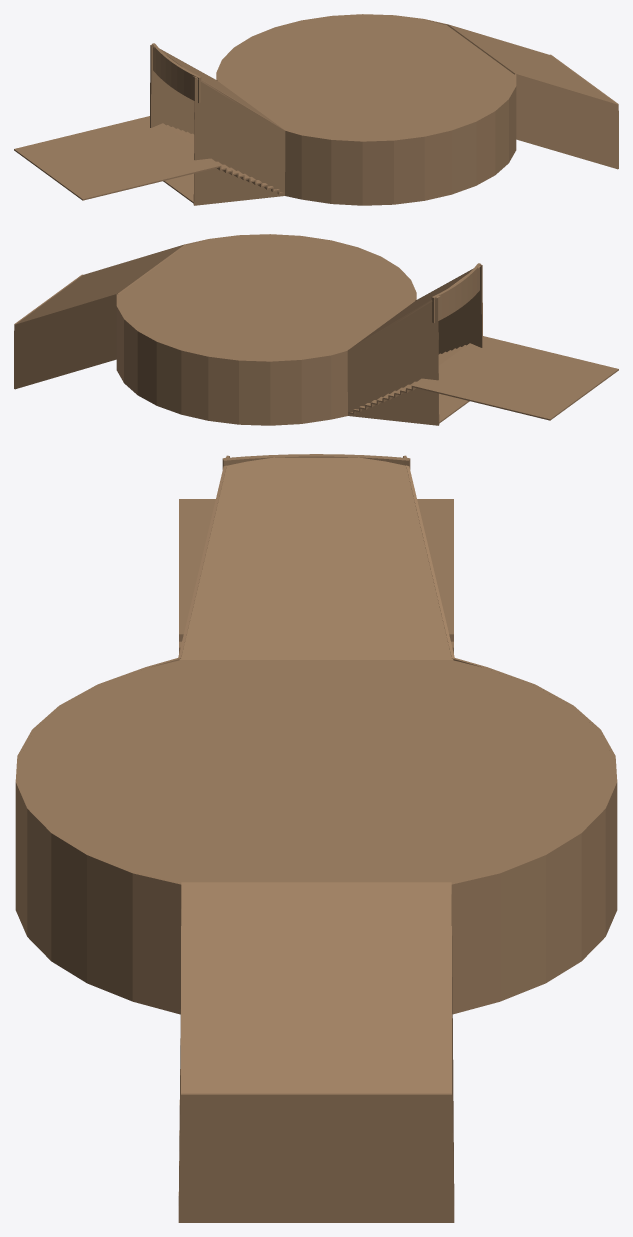
Rendered from CollisionLowerLVLHallFix.fbx.
The picture shows the model from 3 angles, top to bottom: view 1: azimuth 30°, elevation 25°; view 2: azimuth 150°, elevation 25°; view 3: azimuth 270°, elevation 25°; orthographic projection. The views are drawn at different scales.
Parts seen in each view (by area): view 1: CollisionLowerLVLHallFix; view 2: CollisionLowerLVLHallFix; view 3: CollisionLowerLVLHallFix.
Boxes of the visible parts, x1,y1,x2,y2 form: CollisionLowerLVLHallFix: (14,14,618,205); CollisionLowerLVLHallFix: (14,234,618,425); CollisionLowerLVLHallFix: (15,454,617,1222).
Bounding box in the file's own units: 4116 × 1340 × 1998.
